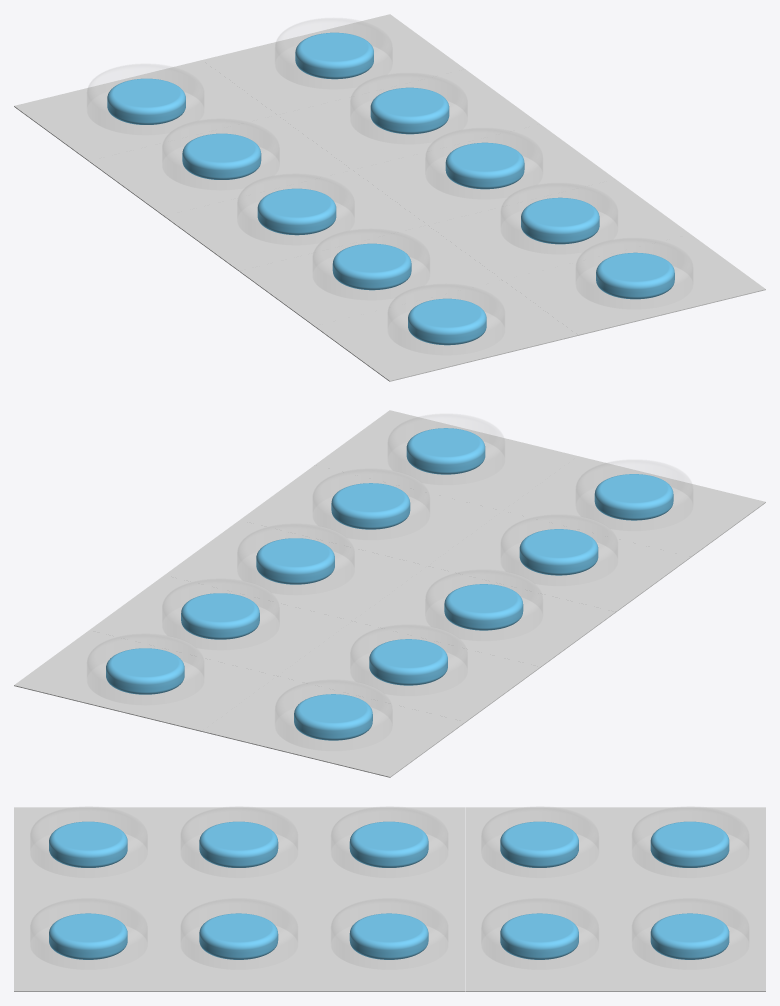
File: Round_Pill_2x5_Blue.glb
3 views of the same model, one above another, from view 1: azimuth 30°, elevation 25°; view 2: azimuth 150°, elevation 25°; view 3: azimuth 270°, elevation 25° (orthographic).
Visible parts, largest first — view 1: Round_Pill_Base_2x5, Round_Pill_2x5, Round_Pill_Shell_2x5, Round_Pill_Lid_2x5; view 2: Round_Pill_Base_2x5, Round_Pill_2x5, Round_Pill_Lid_2x5, Round_Pill_Shell_2x5; view 3: Round_Pill_Base_2x5, Round_Pill_2x5, Round_Pill_Shell_2x5, Round_Pill_Lid_2x5.
Boxes of the visible parts, box(x1,y1,x2,y2) form: Round_Pill_Base_2x5: box(14, 14, 765, 381); Round_Pill_2x5: box(107, 32, 674, 345); Round_Pill_Shell_2x5: box(87, 18, 692, 327); Round_Pill_Lid_2x5: box(86, 45, 693, 355); Round_Pill_Base_2x5: box(14, 410, 765, 777); Round_Pill_2x5: box(106, 428, 673, 740); Round_Pill_Lid_2x5: box(86, 441, 693, 751); Round_Pill_Shell_2x5: box(87, 414, 692, 723); Round_Pill_Base_2x5: box(14, 807, 765, 991); Round_Pill_2x5: box(49, 821, 729, 959); Round_Pill_Shell_2x5: box(30, 806, 748, 941); Round_Pill_Lid_2x5: box(30, 833, 749, 969).
Size of the model in its own units: 6.8 by 0.4541 by 11.77.
